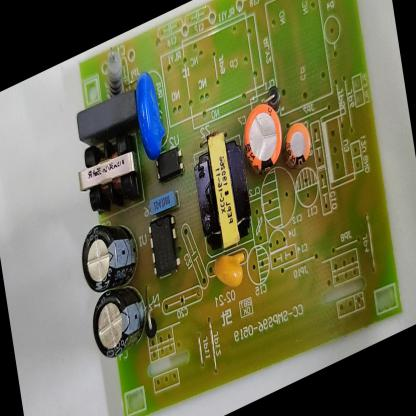Cap1: (238, 93, 288, 184)
Cap2: (281, 115, 315, 175)
Cap3: (75, 206, 142, 304)
Cap4: (85, 275, 152, 370)
MOSFET: (145, 211, 184, 285)
Mov: (130, 63, 170, 167)
Resistor: (102, 42, 128, 100)
Transformer: (188, 119, 256, 263), (72, 126, 147, 231)
